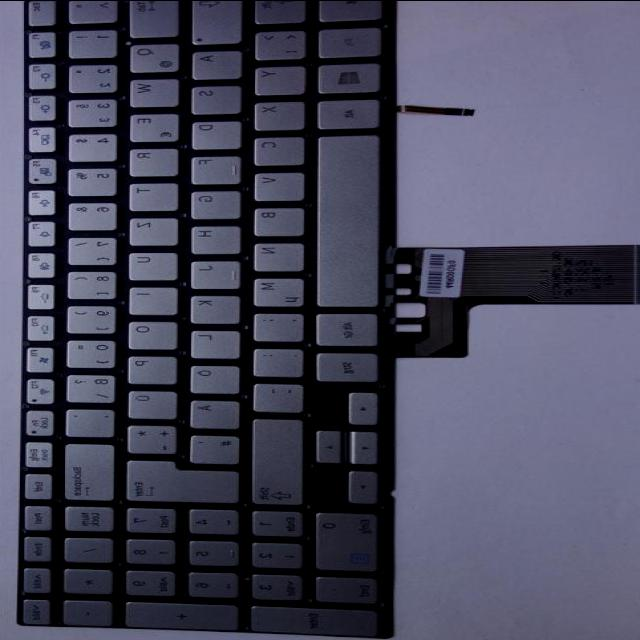0: (62, 335, 115, 365)
1: (63, 26, 115, 56)
2: (63, 60, 116, 90)
3: (63, 94, 115, 126)
4: (63, 130, 115, 160)
5: (63, 164, 115, 194)
6: (63, 199, 115, 228)
7: (63, 233, 115, 263)
8: (62, 267, 115, 297)
9: (62, 301, 115, 331)
a: (187, 47, 240, 77)
accent: (60, 405, 112, 435)
ae: (185, 396, 237, 426)
alt-left: (313, 95, 378, 127)
altgr-right: (312, 310, 377, 345)
b: (249, 203, 302, 235)
c: (249, 133, 302, 163)
caret: (63, 1, 115, 21)
comma: (248, 308, 302, 340)
d: (187, 117, 240, 147)
del: (59, 441, 112, 500)
e: (124, 110, 177, 140)
enter: (120, 456, 237, 500)
f: (186, 152, 238, 182)
g: (185, 186, 238, 216)
h: (186, 221, 238, 251)
hash: (184, 431, 237, 461)
i: (123, 283, 175, 312)
j: (185, 256, 238, 286)
k: (185, 291, 238, 321)
keyboard: (10, 0, 399, 639)
l: (185, 327, 238, 356)
less: (249, 26, 303, 58)
m: (248, 274, 302, 304)
minus: (249, 380, 301, 410)
n: (248, 238, 301, 268)
o: (123, 317, 175, 347)
oe: (184, 361, 237, 391)
p: (121, 351, 174, 381)
plus: (121, 420, 174, 452)
point: (248, 344, 301, 374)
q: (124, 40, 177, 70)
r: (124, 144, 176, 174)
s: (186, 82, 238, 112)
shift-left: (248, 0, 304, 21)
shift-lock: (185, 0, 239, 42)
shift-right: (247, 414, 301, 503)
space: (312, 130, 380, 306)
ss: (61, 369, 113, 400)
strg-left: (312, 0, 379, 18)
strg-right: (312, 348, 378, 380)
t: (124, 179, 176, 209)
tab: (122, 0, 175, 35)
u: (123, 248, 176, 277)
ue: (123, 386, 175, 416)
v: (249, 168, 302, 198)
w: (124, 74, 176, 104)
x: (249, 98, 303, 128)
y: (249, 63, 303, 93)
z: (123, 214, 176, 244)
